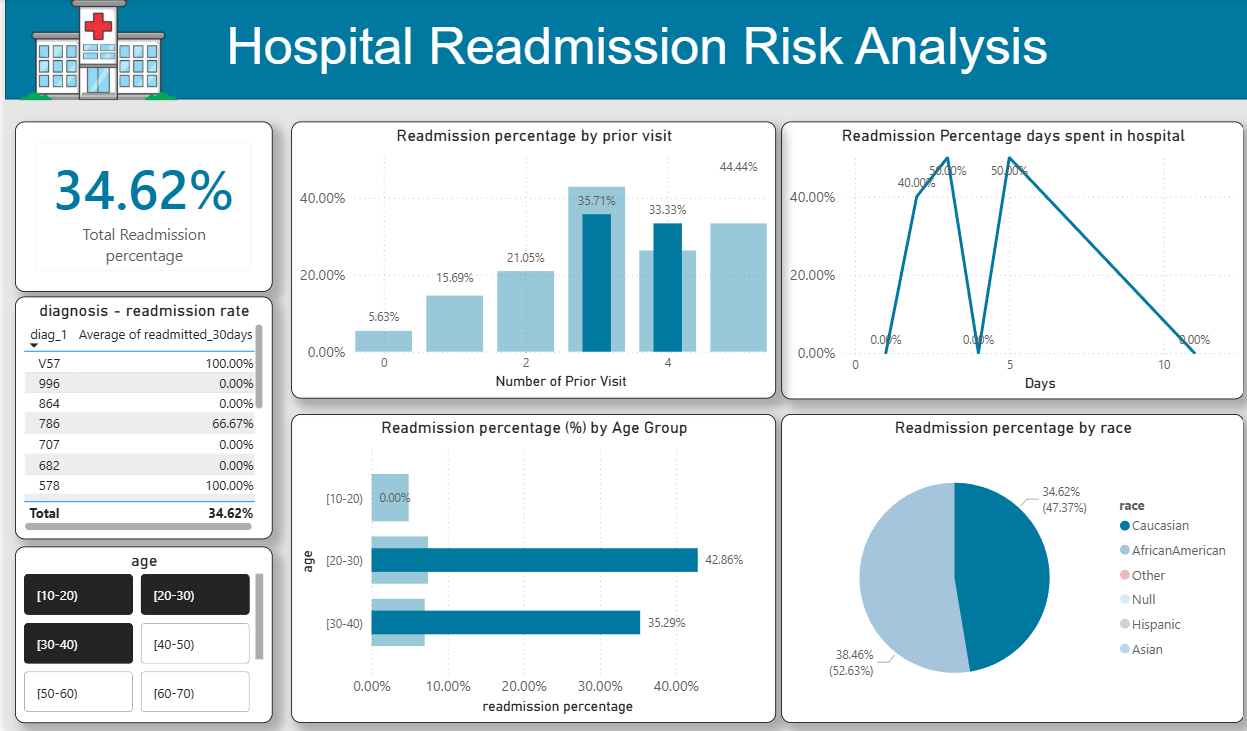

The dashboard page shown, as its layout file describes it:
{"tool":"powerbi","page":{"name":"Page 1","canvas":[1280,754],"ordinal":0},"visuals":[{"type":"cardVisual","fields":{"Data":["Avg(diabetic_cleaned_v1.readmitted_30days)"]},"box":[10.7,125.6,264.6,175],"z":0},{"type":"clusteredBarChart","title":"Readmission percentage (%) by Age Group","fields":{"Category":["diabetic_cleaned_v1.age"],"Y":["Avg(diabetic_cleaned_v1.readmitted_30days)"]},"box":[293.9,426.2,498.4,318],"z":1000},{"type":"lineChart","title":"Readmission Percentage days spent in hospital","fields":{"Y":["Avg(diabetic_cleaned_v1.readmitted_30days)"],"Category":["diabetic_cleaned_v1.time_in_hospital"]},"box":[797.7,125.6,475.7,285.9],"z":2000},{"type":"clusteredColumnChart","title":"Readmission percentage by prior visit","fields":{"Y":["Avg(diabetic_cleaned_v1.readmitted_30days)"],"Category":["diabetic_cleaned_v1.number_inpatient"]},"box":[293.9,125.6,498.4,284.6],"z":3000},{"type":"tableEx","title":"diagnosis - readmission rate ","fields":{"Values":["diabetic_cleaned_v1.diag_1","Avg(diabetic_cleaned_v1.readmitted_30days)"]},"box":[10.7,306,264.6,249.9],"z":4000},{"type":"pieChart","title":"Readmission percentage by race","fields":{"Category":["diabetic_cleaned_v1.race"],"Y":["Avg(diabetic_cleaned_v1.readmitted_30days)"]},"box":[797.7,426.2,475.7,318],"z":5000},{"type":"advancedSlicerVisual","fields":{"Values":["diabetic_cleaned_v1.age"]},"box":[10.7,562.5,264.6,181.7],"z":6000},{"type":"group","id":"g1","title":"Group 1","box":[0,0,1280.3,104.2],"z":7000},{"type":"shape","box":[0,0,1280.3,103.1],"z":7000,"group":"g1"},{"type":"image","box":[0,0,192.4,104.2],"z":8000},{"type":"textbox","box":[204.4,13.4,891.2,90.9],"z":8002,"group":"g1"}]}

Visuals, with their boxes in screenshot pixels (x1, y1, x2, y2), scaled from the page's 1280x754 canvas onto the 1247x731 screenshot:
cardVisual - Avg(diabetic_cleaned_v1.readmitted_30days): (x1=10, y1=122, x2=268, y2=291)
"Readmission percentage (%) by Age Group" clusteredBarChart: (x1=286, y1=413, x2=772, y2=721)
"Readmission Percentage days spent in hospital" lineChart: (x1=777, y1=122, x2=1241, y2=399)
"Readmission percentage by prior visit" clusteredColumnChart: (x1=286, y1=122, x2=772, y2=398)
"diagnosis - readmission rate " tableEx: (x1=10, y1=297, x2=268, y2=539)
"Readmission percentage by race" pieChart: (x1=777, y1=413, x2=1241, y2=721)
advancedSlicerVisual - diabetic_cleaned_v1.age: (x1=10, y1=545, x2=268, y2=721)
"Group 1" group: (x1=0, y1=0, x2=1246, y2=101)
shape: (x1=0, y1=0, x2=1246, y2=100)
image: (x1=0, y1=0, x2=187, y2=101)
textbox: (x1=199, y1=13, x2=1067, y2=101)
